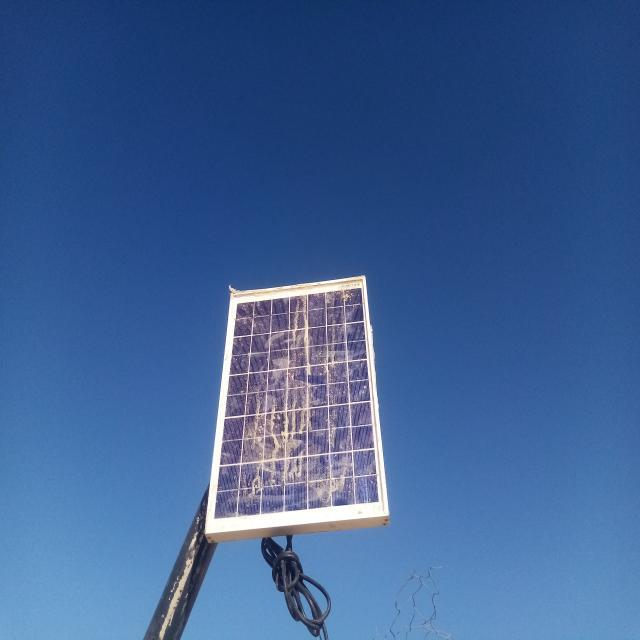faulty: (206, 276, 389, 535)
